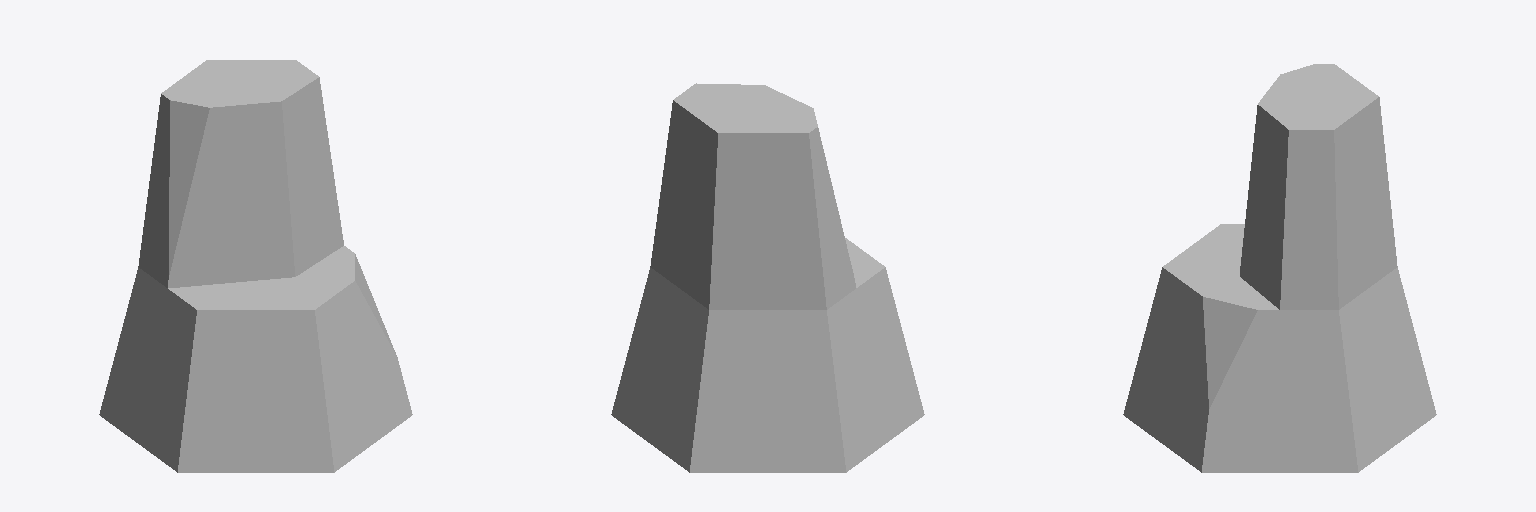
The model's file is rock_tallF.obj.
3 renders of one model, left to right at view 1: azimuth 30°, elevation 25°; view 2: azimuth 150°, elevation 25°; view 3: azimuth 270°, elevation 25°, orthographic.
Visible parts, largest first — view 1: rock_tallF; view 2: rock_tallF; view 3: rock_tallF.
Boxes of the visible parts, x1,y1,x2,y2 form: rock_tallF: [99, 60, 412, 472]; rock_tallF: [611, 83, 924, 472]; rock_tallF: [1123, 64, 1436, 472].
Size of the model in its own units: 0.4437 by 0.5737 by 0.5123.